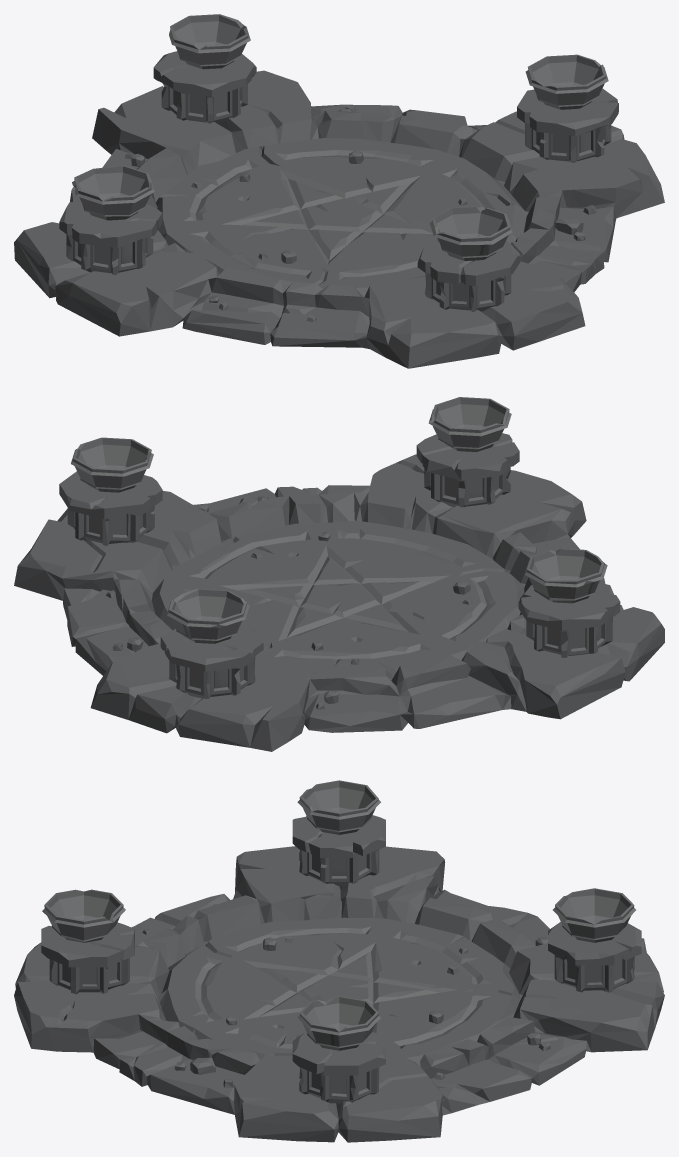
The model's file is crypt_ritual_circle.gltf.
The picture shows the model from 3 angles, top to bottom: view 1: azimuth 30°, elevation 25°; view 2: azimuth 150°, elevation 25°; view 3: azimuth 270°, elevation 25°; orthographic projection. The views are drawn at different scales.
Visible parts, largest first — view 1: crypt_ritual_circle; view 2: crypt_ritual_circle; view 3: crypt_ritual_circle.
Part boxes in pixels (left/top/right/bottom): crypt_ritual_circle: left=14, top=14, right=664, bottom=368; crypt_ritual_circle: left=14, top=397, right=664, bottom=751; crypt_ritual_circle: left=14, top=780, right=664, bottom=1142.
Bounding box in the file's own units: 6.06 × 1.08 × 6.07.
Materials: 1 (1 with a texture image).
